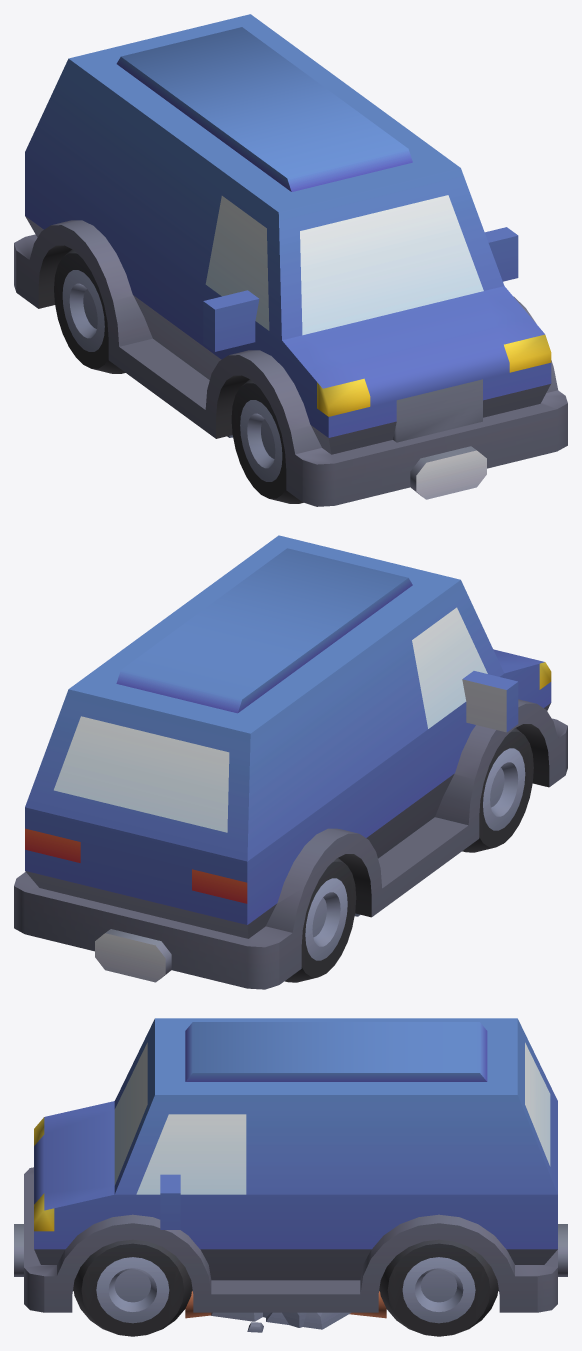
Rendered from props.glb.
3 views of the same model, one above another, from view 1: azimuth 30°, elevation 25°; view 2: azimuth 150°, elevation 25°; view 3: azimuth 270°, elevation 25° (orthographic). The views are drawn at different scales.
Visible parts, largest first — view 1: body, wheel-front-right, wheel-back-right; view 2: body, wheel-back-right, wheel-front-right; view 3: body, wheel-front-left, wheel-back-left, rock-b, tree-log.
Boxes of the visible parts, x1,y1,x2,y2 form: body: (14, 14, 567, 506); wheel-front-right: (231, 379, 303, 503); wheel-back-right: (54, 249, 125, 373); body: (14, 535, 567, 989); wheel-back-right: (285, 858, 356, 982); wheel-front-right: (462, 728, 533, 852); body: (14, 1018, 567, 1312); wheel-front-left: (73, 1239, 192, 1336); wheel-back-left: (379, 1239, 498, 1336); rock-b: (211, 1312, 350, 1332); tree-log: (185, 1291, 386, 1318).
Bounding box in the file's own units: 1.5 × 1.46 × 2.75.
2 materials, 2 textured.
